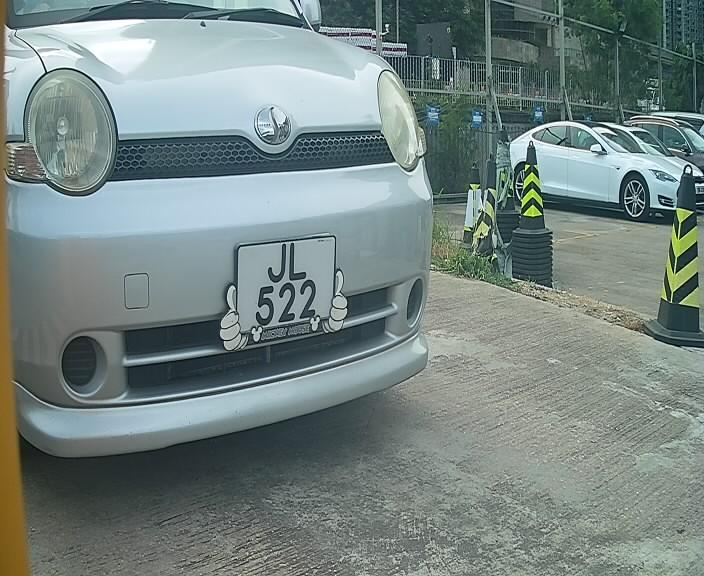Car: (19, 11, 472, 497)
License Plate: (217, 222, 349, 358)
